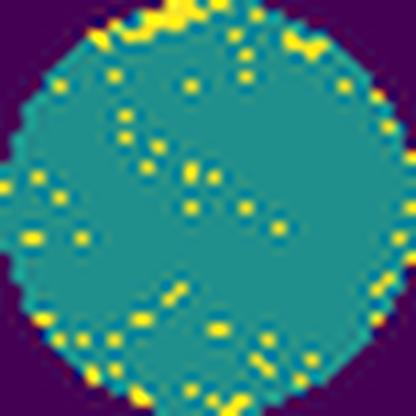Edge-Loc: (82, 0, 228, 51), (276, 31, 332, 60)
